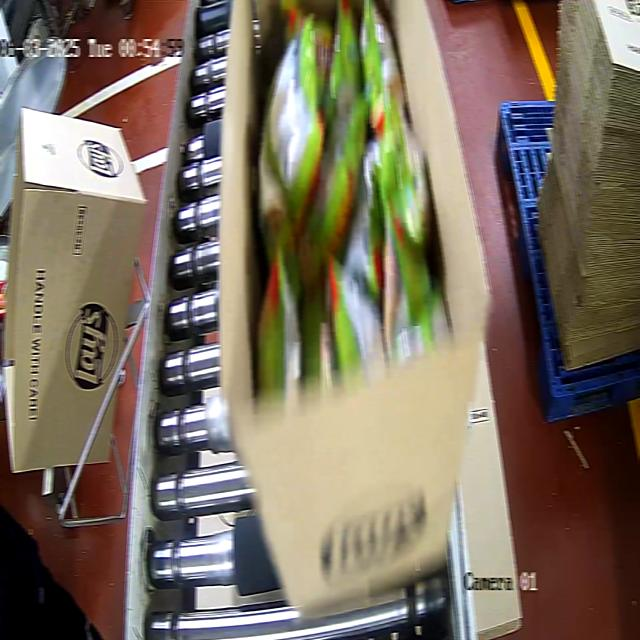YOGURT_HERB: (255, 8, 435, 370)
